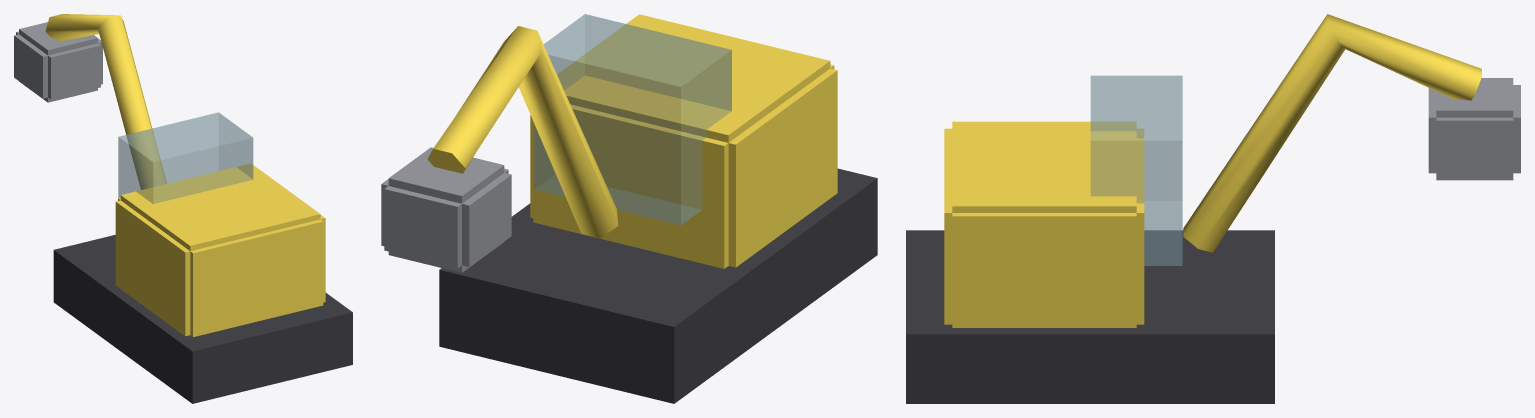
The model's file is excavator_mini.glb.
The picture shows the model from 3 angles, left to right: view 1: azimuth 30°, elevation 25°; view 2: azimuth 150°, elevation 25°; view 3: azimuth 270°, elevation 25°; orthographic projection. The views are drawn at different scales.
Visible parts, largest first — view 1: excavator_mini; view 2: excavator_mini; view 3: excavator_mini.
Part boxes in pixels (x1,y1,x2,y2): excavator_mini: (14, 14, 352, 403); excavator_mini: (381, 14, 877, 403); excavator_mini: (906, 14, 1520, 403).
Size of the model in its own units: 1.6 by 2.4 by 4.
